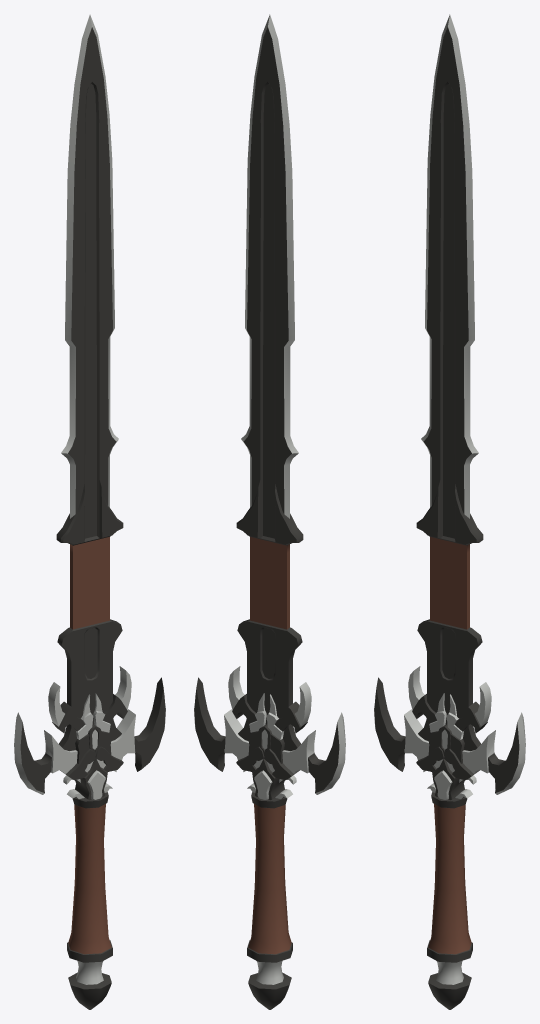
File: DragonicSword.fbx
The picture shows the model from 3 angles, left to right: view 1: azimuth 30°, elevation 25°; view 2: azimuth 150°, elevation 25°; view 3: azimuth 330°, elevation 25°; orthographic projection.
Visible parts, largest first — view 1: DragonicSword; view 2: DragonicSword; view 3: DragonicSword.
Boxes of the visible parts, bbox=[...] form: DragonicSword: bbox=[14, 14, 165, 1009]; DragonicSword: bbox=[194, 14, 345, 1009]; DragonicSword: bbox=[374, 14, 525, 1009].
Size of the model in its own units: 28.31 by 177 by 7.64.
